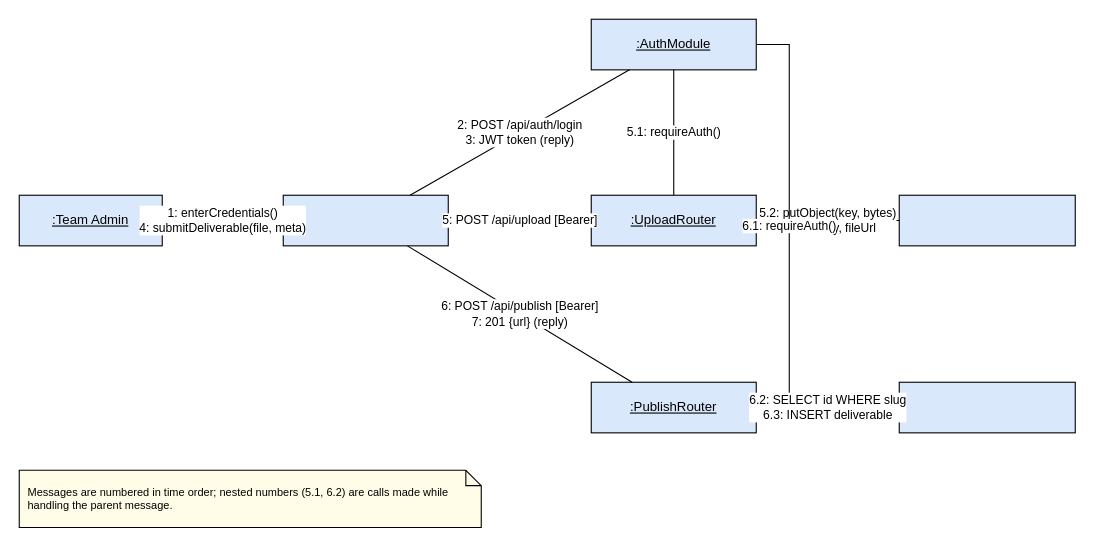
The diagram is 1095 pixels wide and 547 high, and some of its shapes have lost their labels. Here are the shapes that lost their labels. From the top down, the centre of each, then its label:
(365,220): :AdminPage
(986,220): :StorageService
(986,407): :Database
